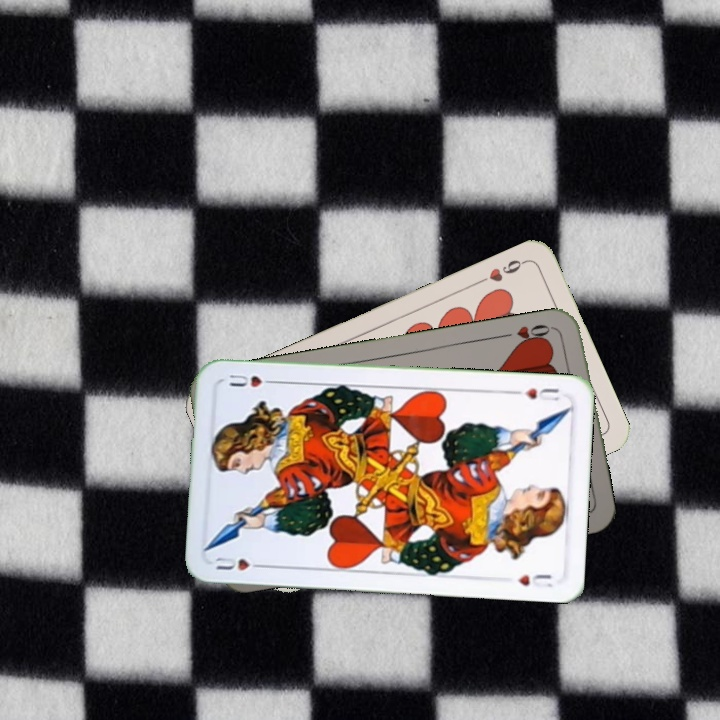H9: (473, 255, 529, 287)
HO: (499, 320, 558, 349)
HU: (211, 553, 268, 573), (509, 384, 562, 404)
